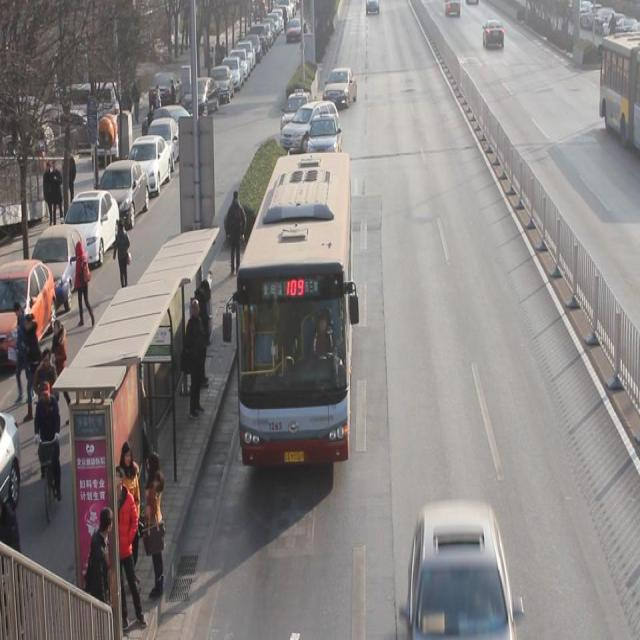car: (408, 502, 514, 640), (282, 100, 338, 155), (309, 110, 343, 160), (282, 89, 313, 137), (324, 66, 357, 109), (482, 20, 504, 49)
van: (238, 154, 352, 462), (596, 32, 640, 148)
